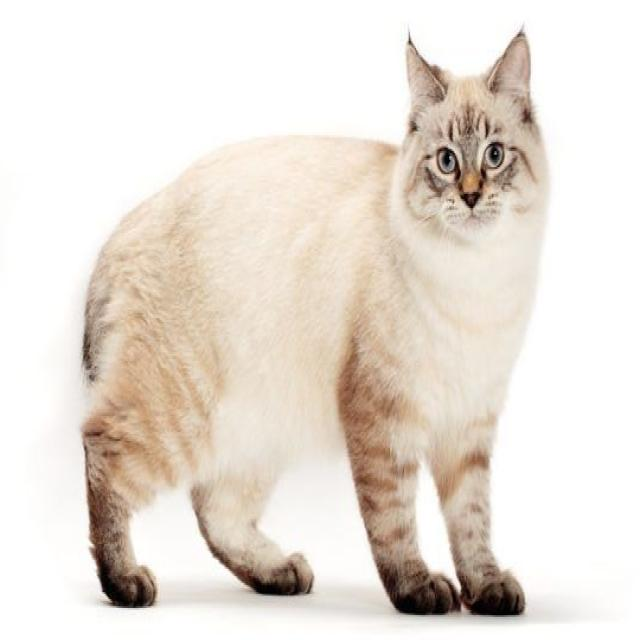American Bobtail: (72, 22, 556, 620)
